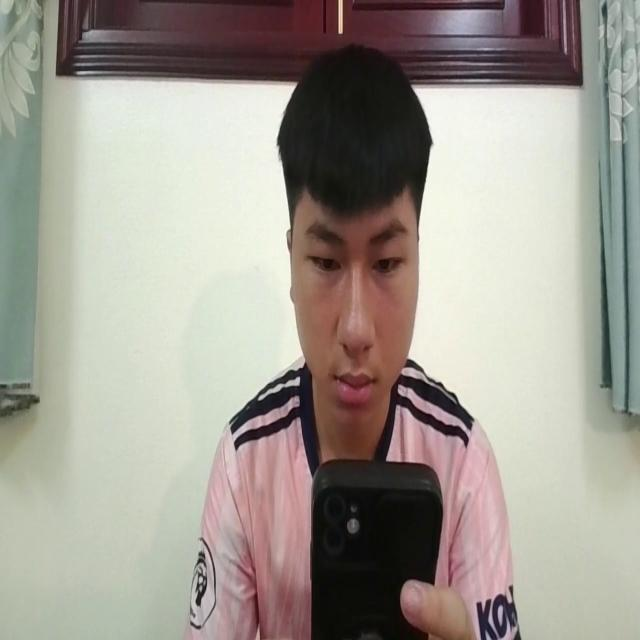phone: (309, 457, 443, 640)
student: (181, 40, 518, 640)
